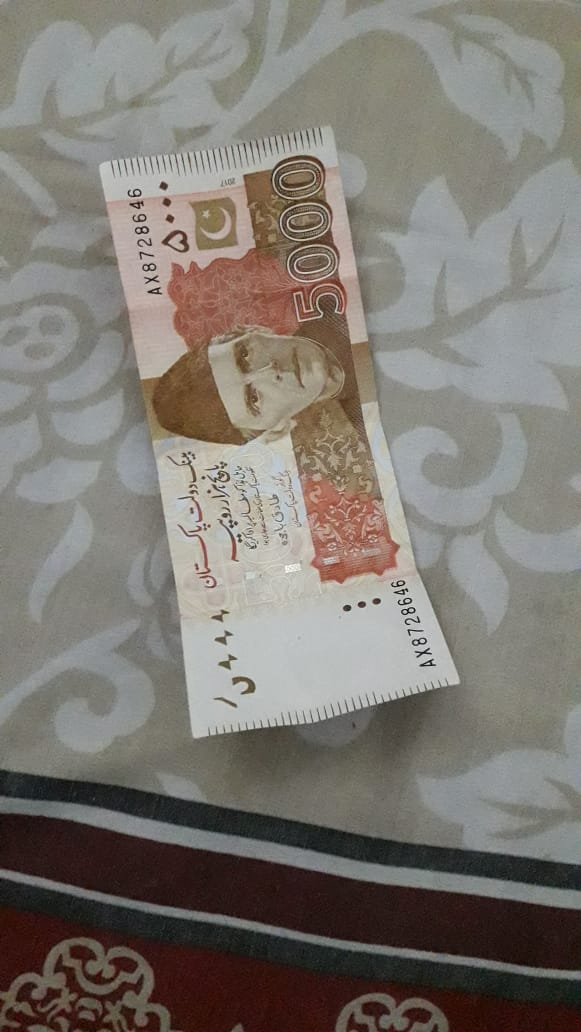5000 rupee: (86, 143, 451, 718)
